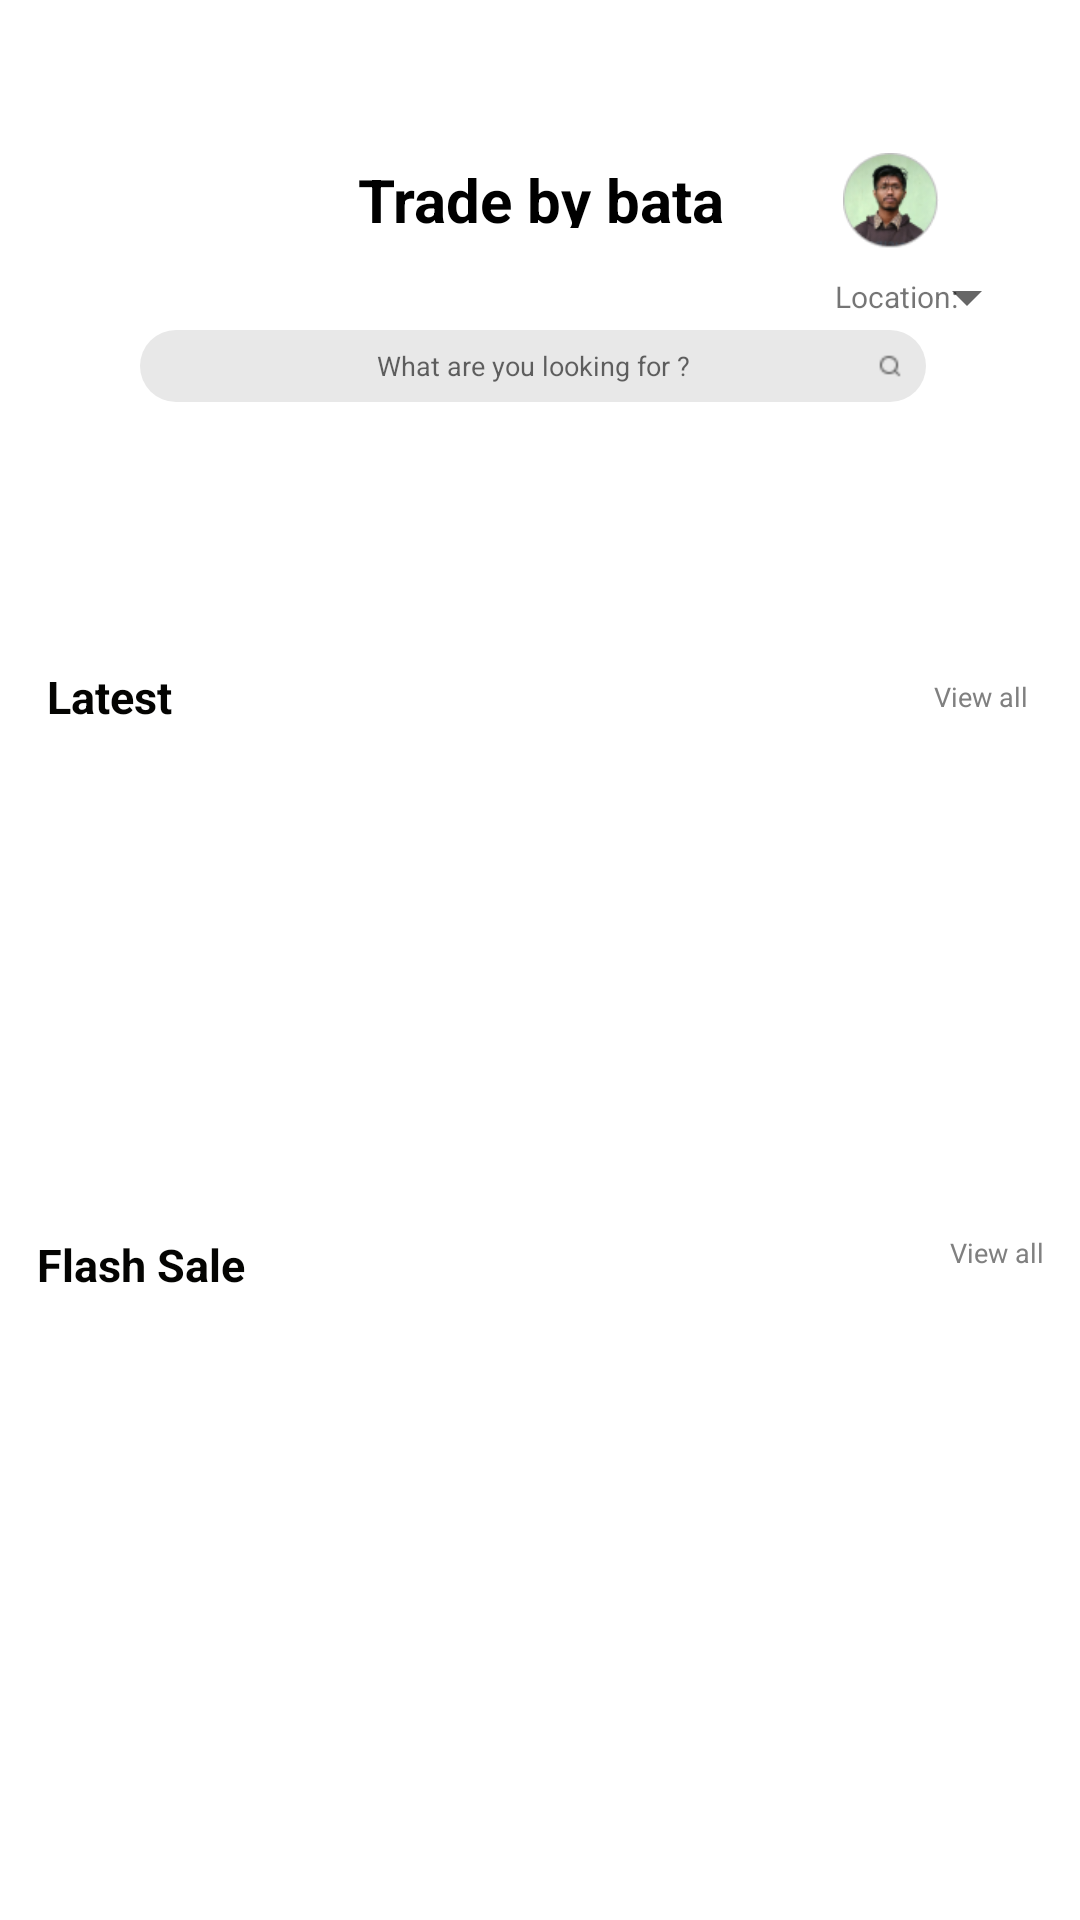

Screen size 1080x1920. Icon name, then its box in pixels as (x1, y1, x2, y2):
photo profile: (843, 153, 938, 248)
